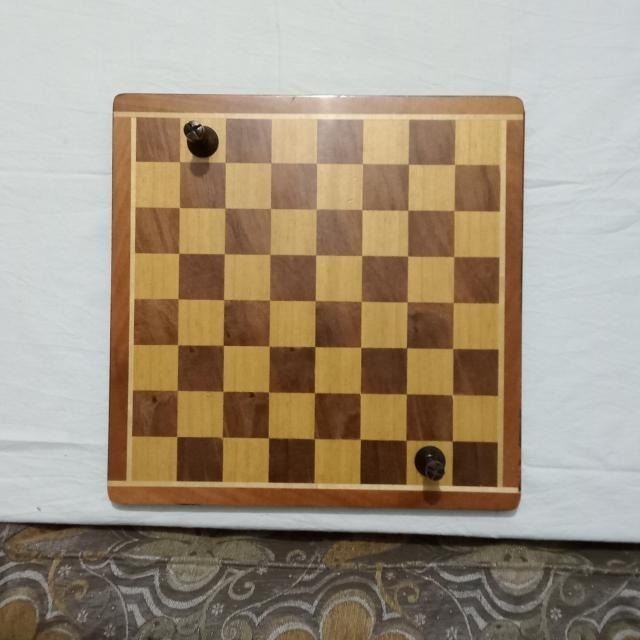black-rook: (184, 120, 219, 156), (414, 444, 446, 482)
